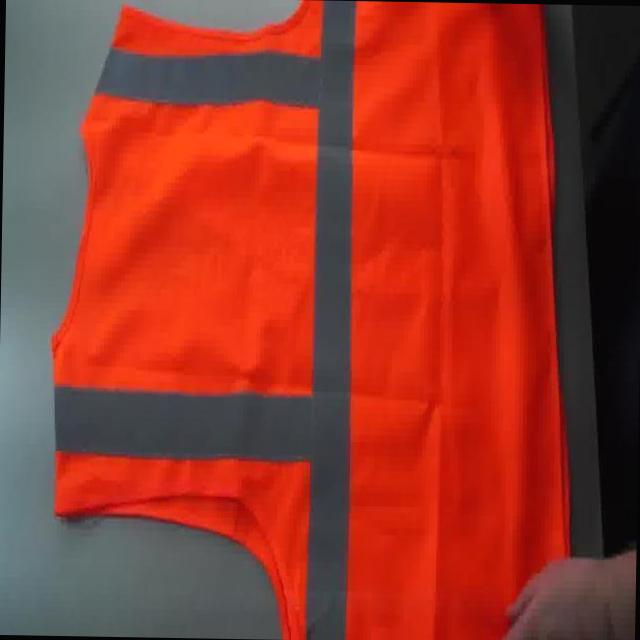vest: (42, 0, 581, 640)
